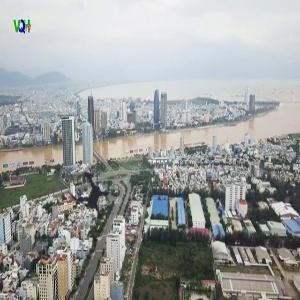drone: (44, 148, 145, 249)
